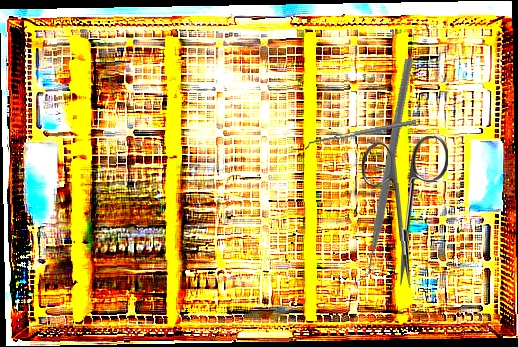Chopper: (282, 56, 480, 285)
Iris Scissors: (361, 135, 451, 289)
Spatula Surgical: (303, 119, 418, 151)
